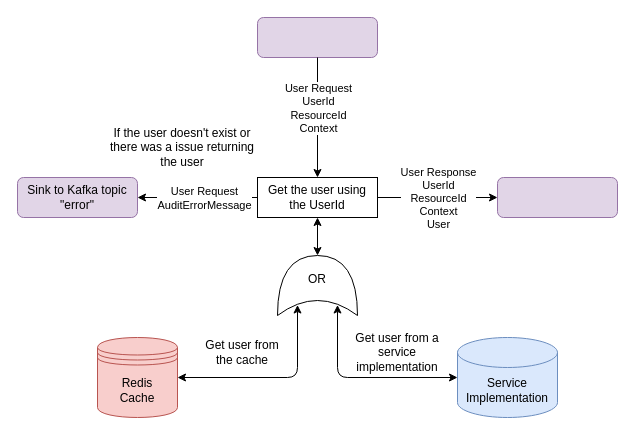
Image size: 635x435. Some labels were removed from this diagram. Here are the shapes that lost their labels. From the top down, the box of each, then its label:
(256, 16, 378, 58): Source from Kafka topic "request"
(496, 176, 618, 218): Sink to Kafka topic "user"
